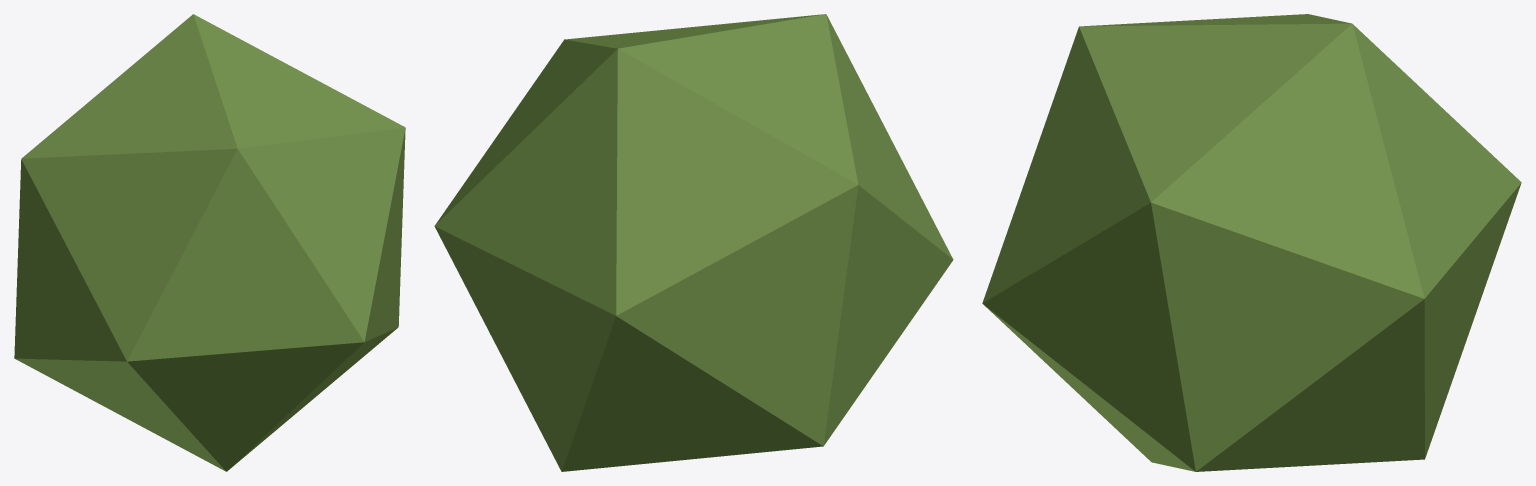
The model's file is canopy-9.glb.
The picture shows the model from 3 angles, left to right: view 1: azimuth 30°, elevation 25°; view 2: azimuth 150°, elevation 25°; view 3: azimuth 270°, elevation 25°; orthographic projection. The views are drawn at different scales.
Visible parts, largest first — view 1: Canopy 9; view 2: Canopy 9; view 3: Canopy 9.
Part boxes in pixels (box(x1,y1,x2,y2)): Canopy 9: box(14, 14, 405, 471); Canopy 9: box(434, 14, 953, 471); Canopy 9: box(982, 14, 1521, 471).
Size of the model in its own units: 18.68 by 20.76 by 21.69.
